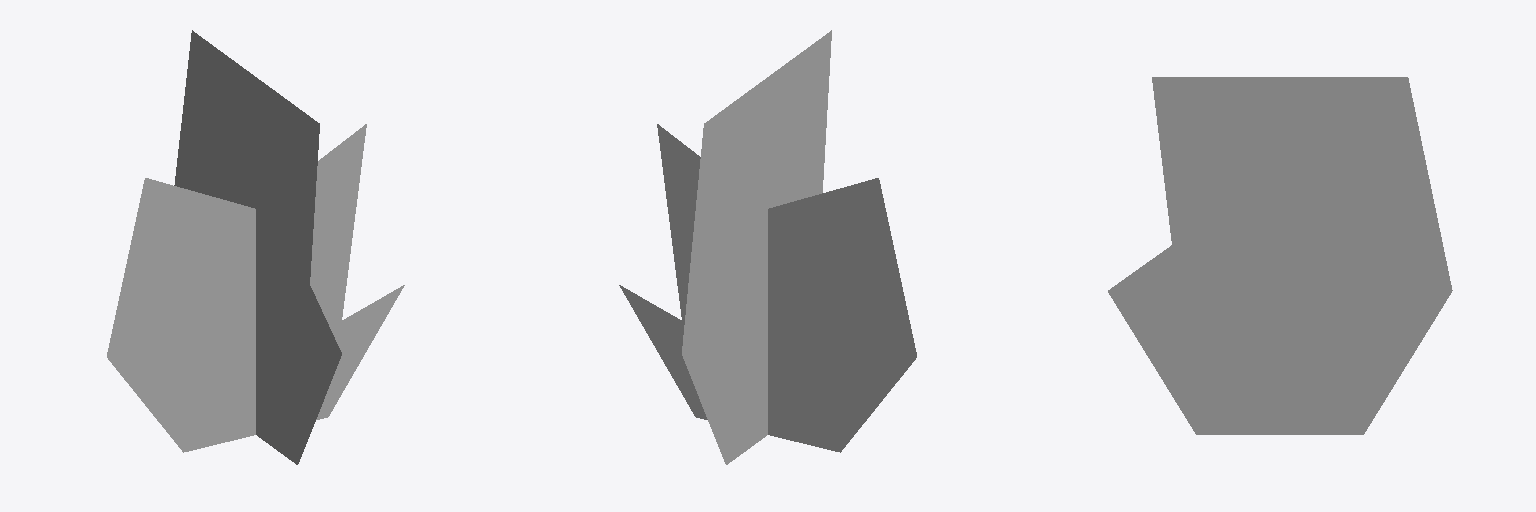
Rendered from Plant_1_01.obj.
3 views of the same model, side by side, from view 1: azimuth 30°, elevation 25°; view 2: azimuth 150°, elevation 25°; view 3: azimuth 270°, elevation 25° (orthographic).
Visible parts, largest first — view 1: Mesh1_Plant_1_Model, Mesh2_Plant_1_Model; view 2: Mesh1_Plant_1_Model, Mesh2_Plant_1_Model; view 3: Mesh2_Plant_1_Model.
Boxes of the visible parts, <box> form: Mesh1_Plant_1_Model: <box>107,124,404,452</box>; Mesh2_Plant_1_Model: <box>174,30,341,464</box>; Mesh1_Plant_1_Model: <box>619,124,916,452</box>; Mesh2_Plant_1_Model: <box>682,30,831,464</box>; Mesh2_Plant_1_Model: <box>1108,77,1452,434</box>.
Bounding box in the file's own units: 0.5692 × 0.6512 × 0.5692.